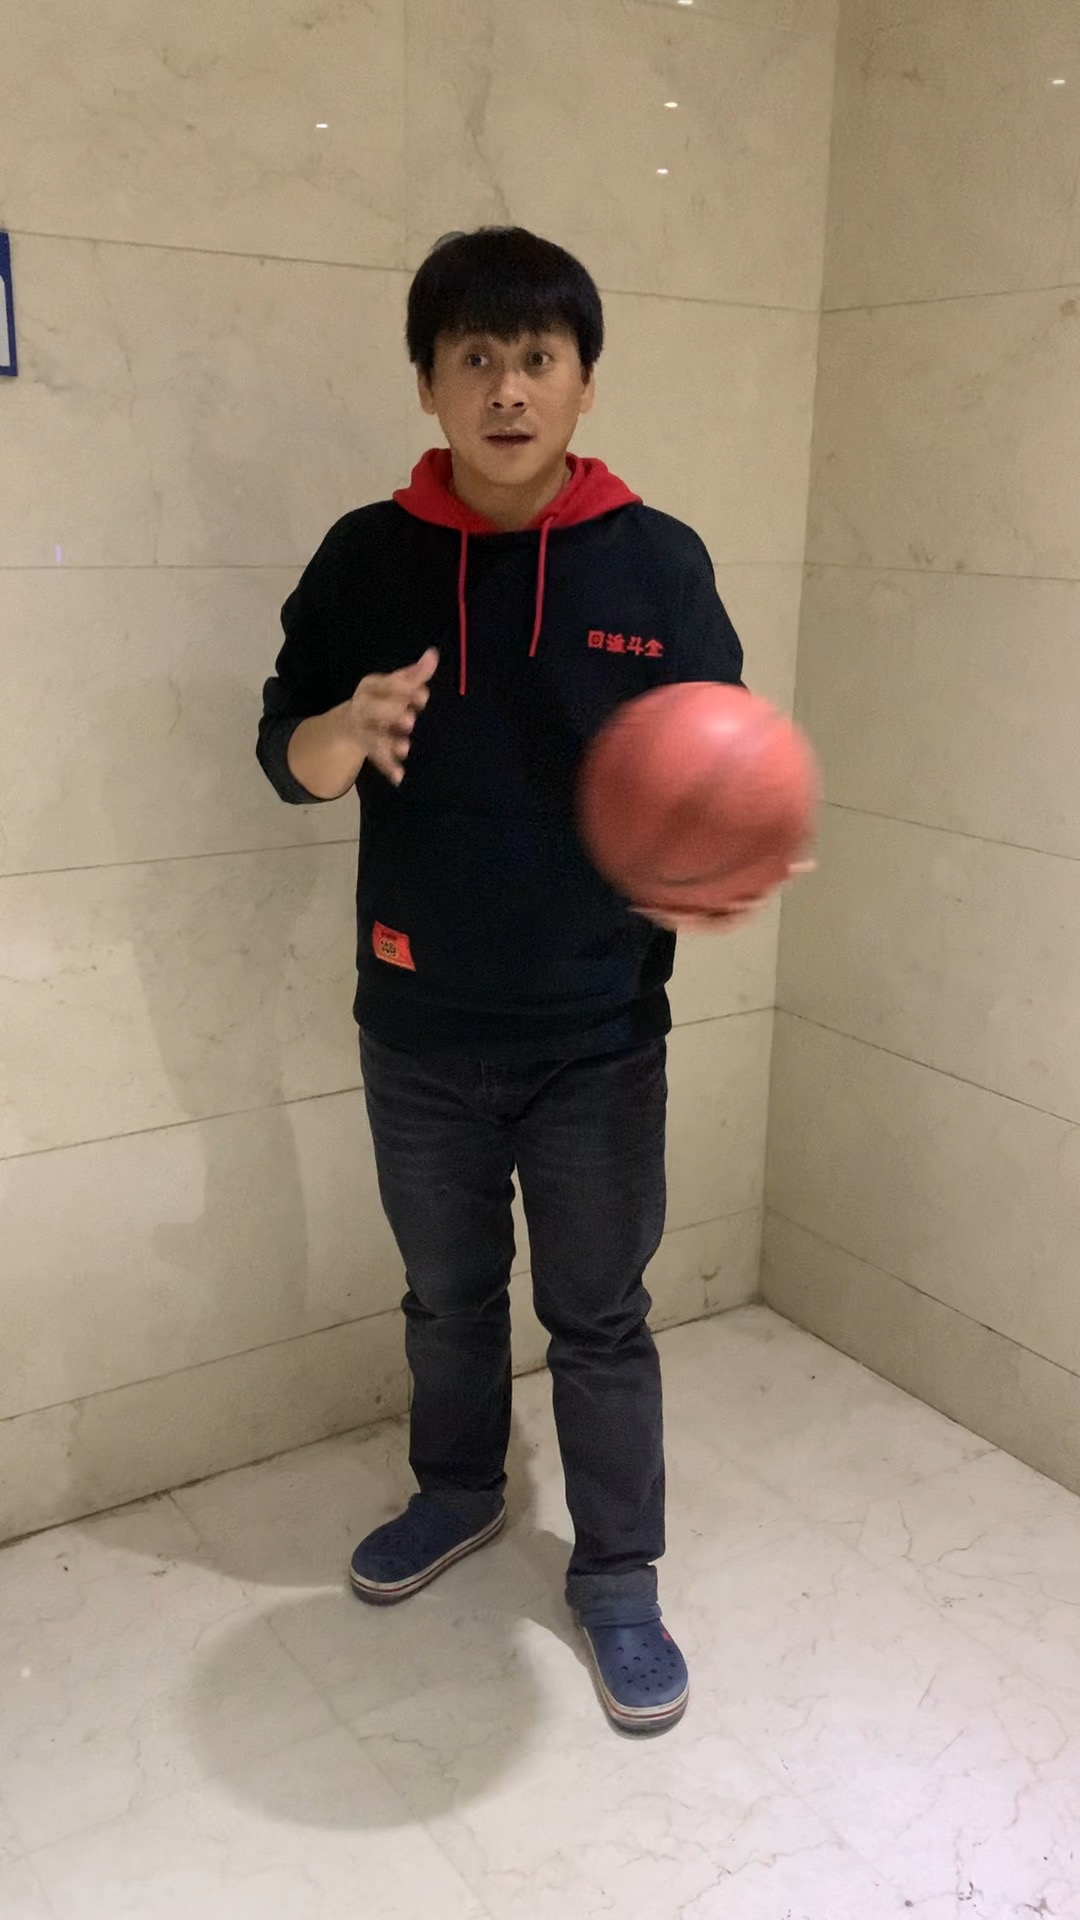ball: (583, 682, 822, 905)
